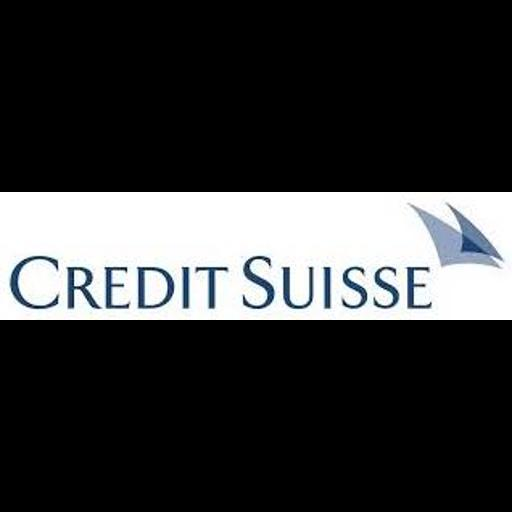Credit Suisse AG: (0, 192, 512, 320)
